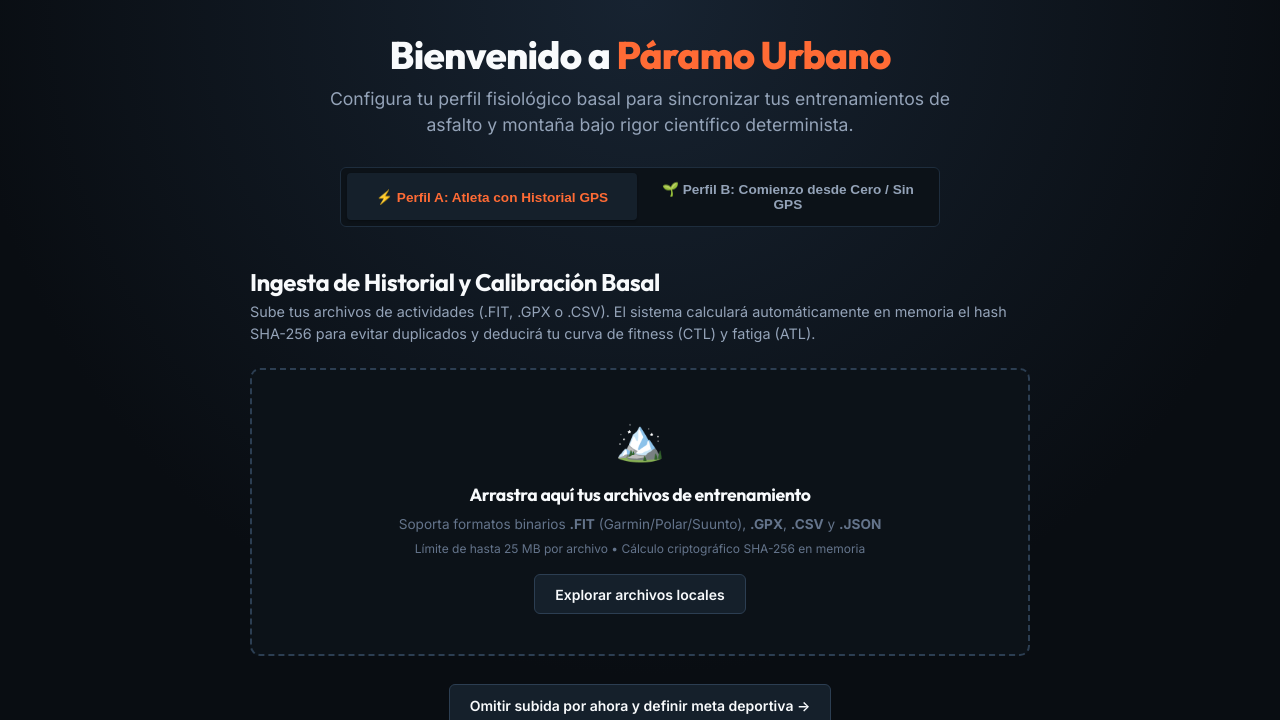
Test case: OnboardingView Component (US-01 Bifurcated Screening) › switches to Profile B (Beginner / Zero-GPS) displaying CaCo method and Gellish calculator
Click the tab with test id "profile-b-tab" at {"x": 788, "y": 197}, box [643,174,933,220]
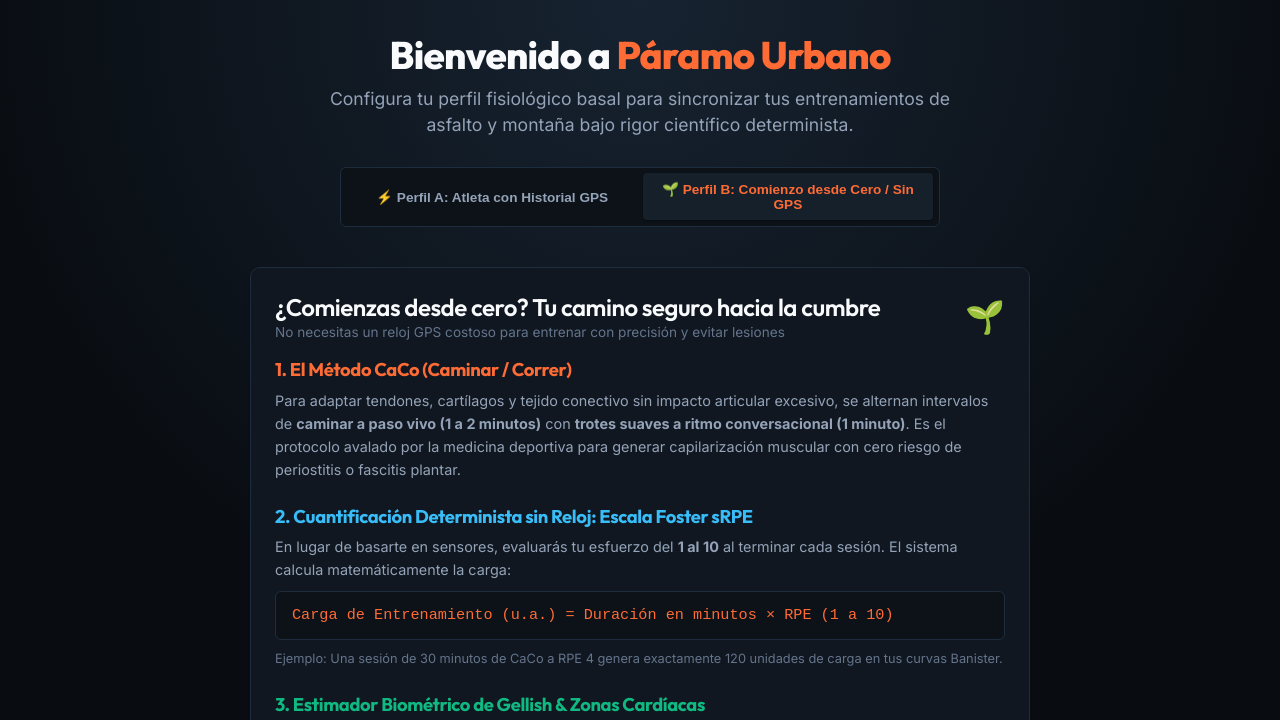
Now the heading "¿Comienzas desde cero? Tu camino seguro hacia la cumbre" is shown, box [275,292,880,322]
Now the heading "1. El Método CaCo (Caminar / Correr)" is shown, box [275,358,572,381]
Now the heading "2. Cuantificación Determinista sin Reloj: Escala Foster sRPE" is shown, box [275,505,753,528]
